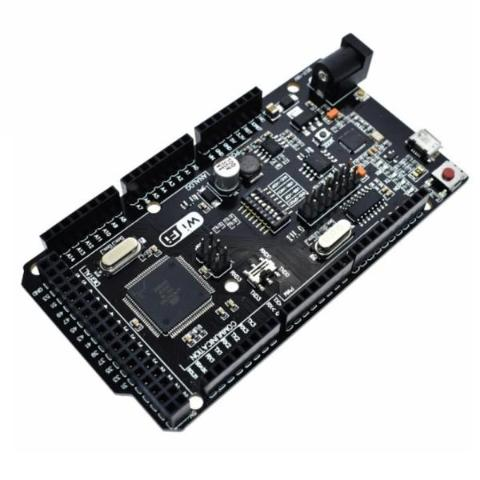Arduino-Mega: (8, 17, 474, 445)
